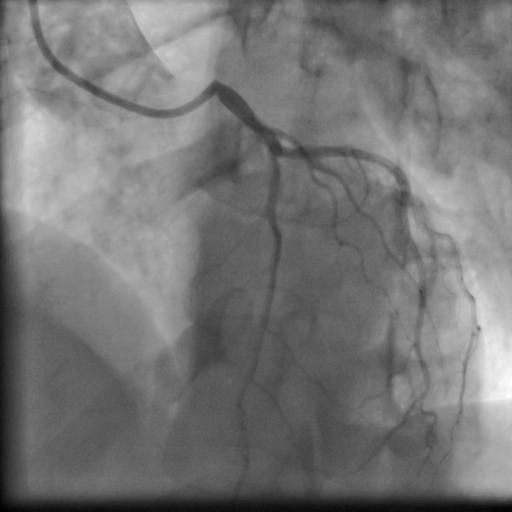Stenosis: (263, 143, 282, 172)
